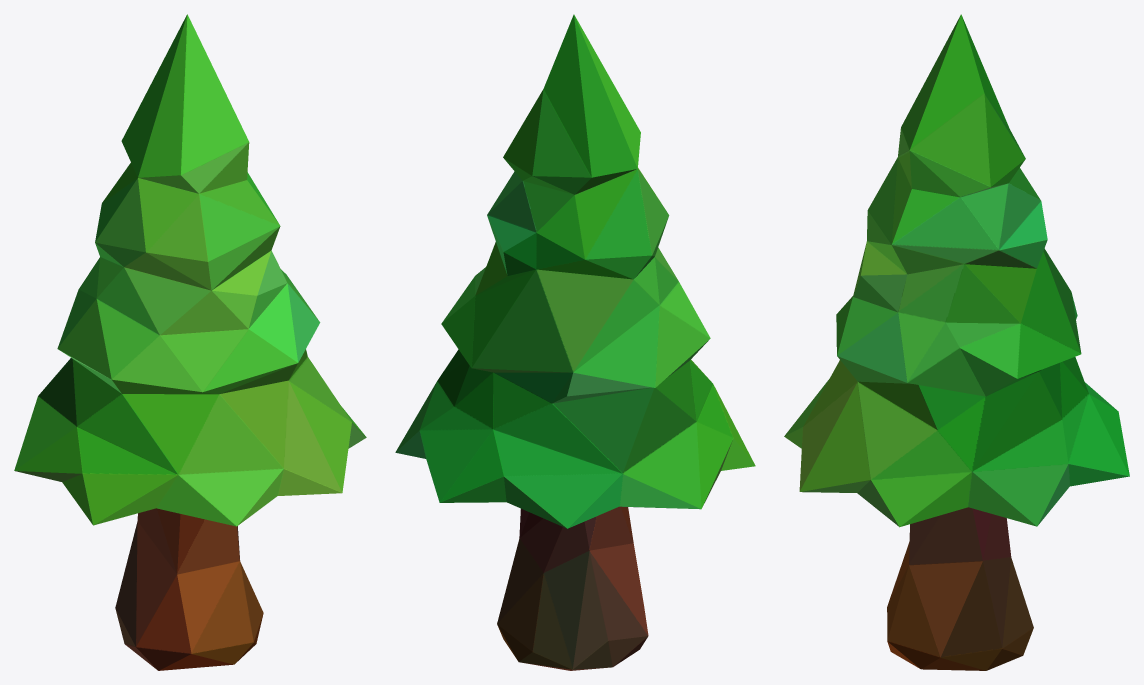
The model's file is Tree1.fbx.
The picture shows the model from 3 angles, left to right: view 1: azimuth 30°, elevation 25°; view 2: azimuth 150°, elevation 25°; view 3: azimuth 270°, elevation 25°; orthographic projection.
Parts seen in each view (by area): view 1: Mesh_0; view 2: Mesh_0; view 3: Mesh_0.
Boxes of the visible parts, <box> form: Mesh_0: <box>14,14,366,670</box>; Mesh_0: <box>395,14,755,670</box>; Mesh_0: <box>784,14,1129,670</box>.
Size of the model in its own units: 93 by 190 by 92.7.
Materials: 1 (1 with a texture image).
